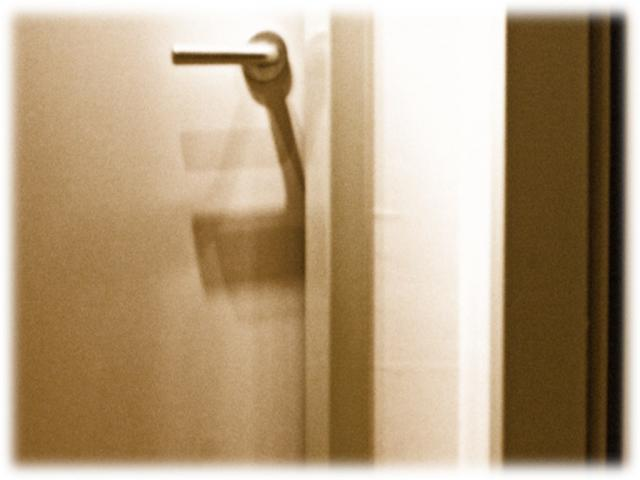Door-handle: (173, 29, 285, 83)
